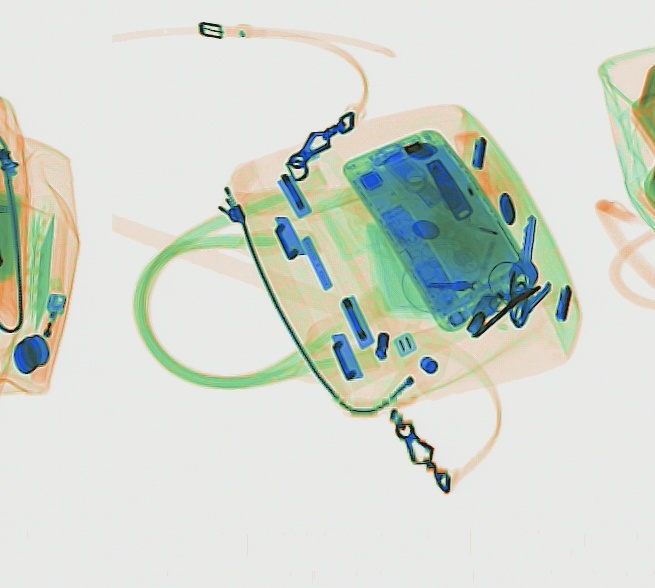lighter: (28, 290, 68, 384)
